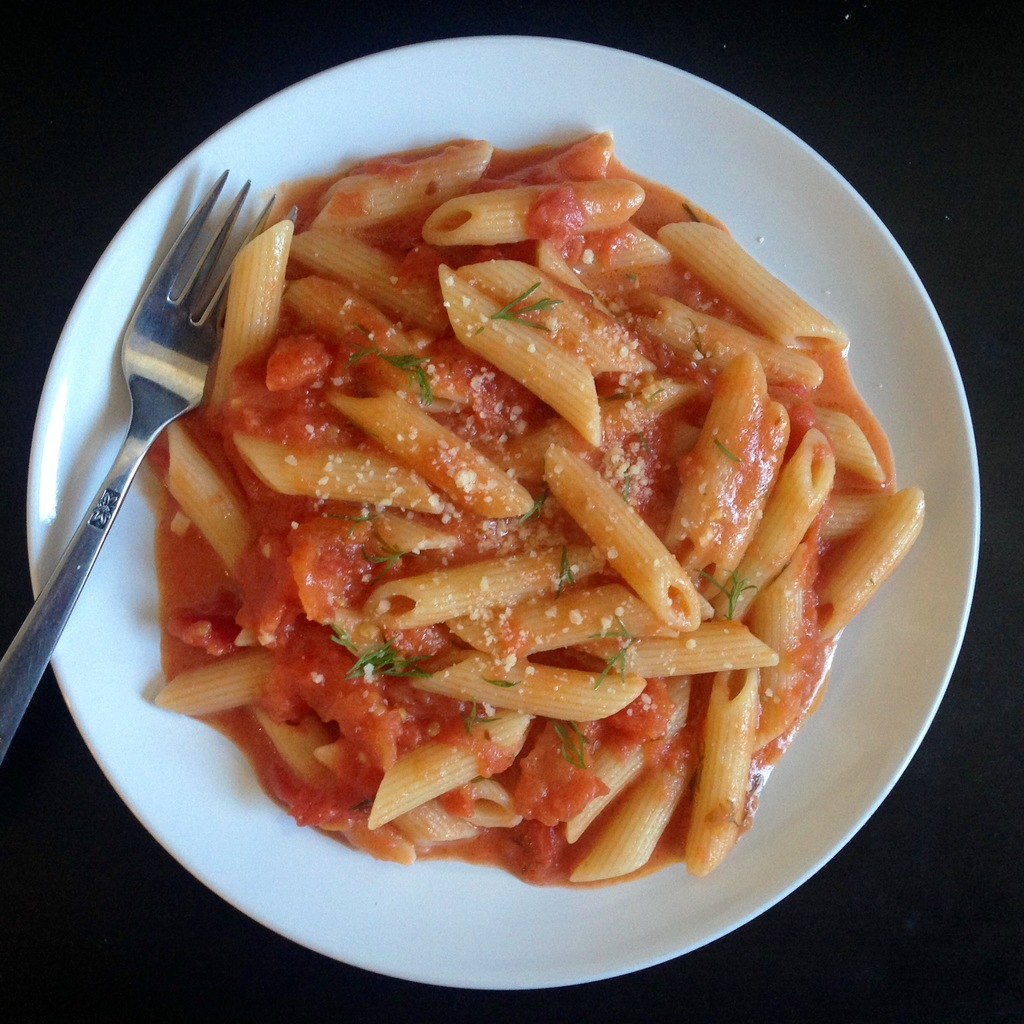pasta: (157, 133, 923, 879)
